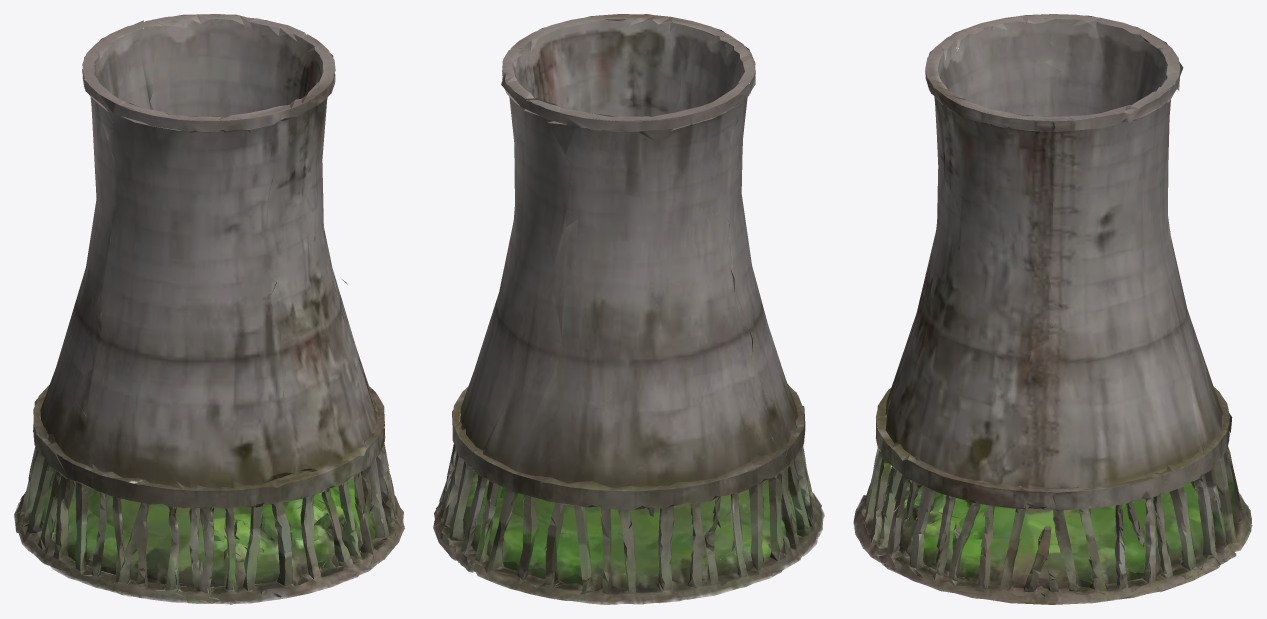
File: building_cooling_tower.glb
3 renders of one model, left to right at view 1: azimuth 30°, elevation 25°; view 2: azimuth 150°, elevation 25°; view 3: azimuth 270°, elevation 25°, orthographic.
Visible parts, largest first — view 1: building_cooling_tower; view 2: building_cooling_tower; view 3: building_cooling_tower.
Part boxes in pixels (box(x1,y1,x2,y2)): building_cooling_tower: box(14, 14, 404, 604); building_cooling_tower: box(433, 14, 824, 604); building_cooling_tower: box(853, 14, 1252, 604).
Size of the model in its own units: 39.17 by 50.66 by 40.
1 material, 1 textured.
